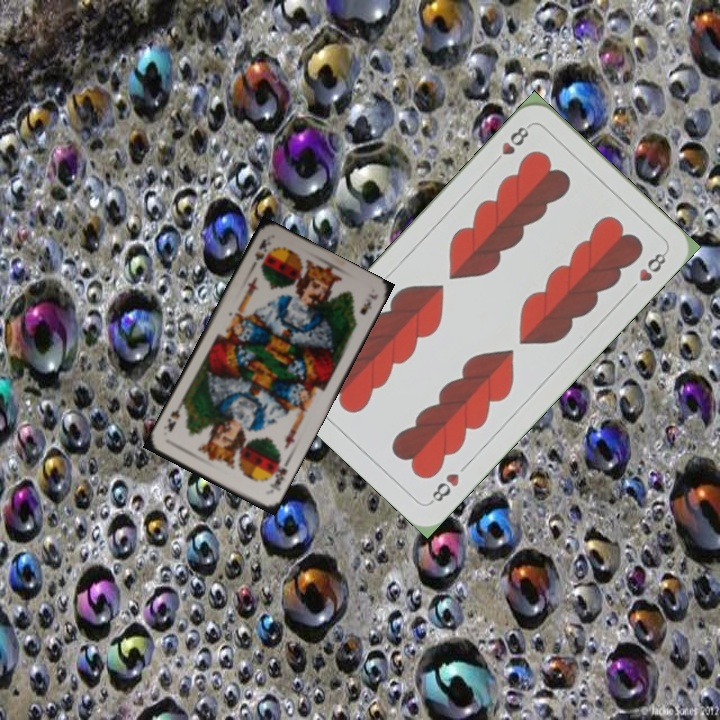H8: (488, 121, 532, 168), (426, 469, 462, 507)
SK: (263, 455, 290, 496), (250, 234, 274, 263)
